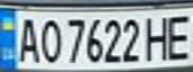2: (121, 15, 145, 63), (103, 15, 124, 64)
6: (84, 15, 106, 64)
7: (63, 15, 84, 64)
A: (12, 13, 42, 64)
E: (163, 11, 193, 61)
H: (142, 11, 172, 62)
O: (36, 15, 63, 64)
